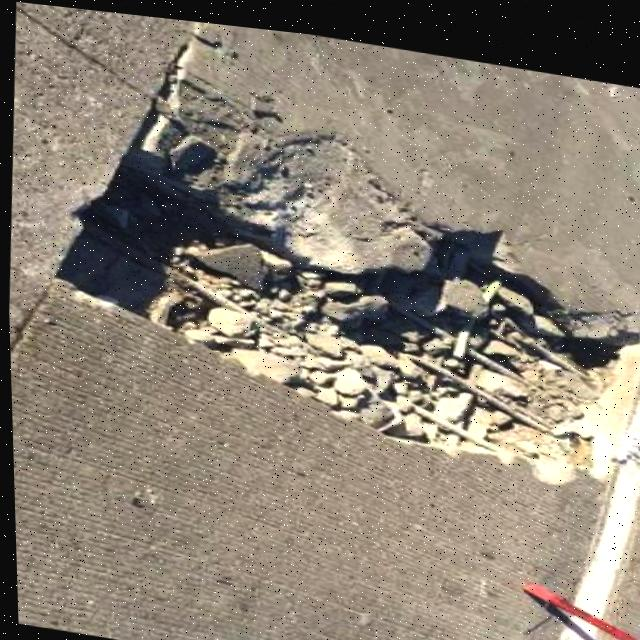Pothole: (36, 117, 640, 481)
